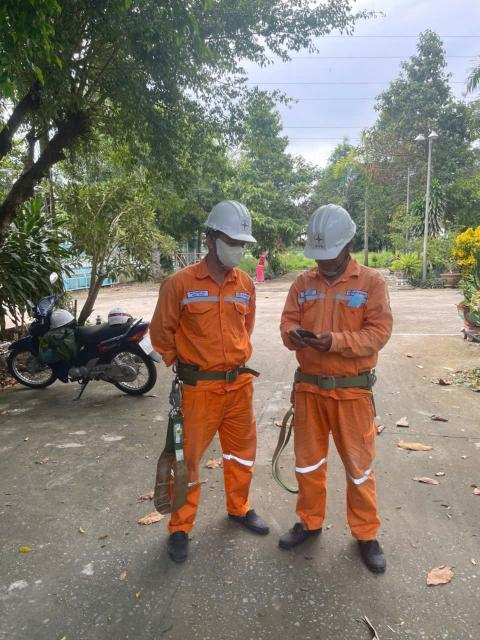harness: (286, 356, 375, 397), (167, 359, 268, 395)
helmet: (198, 189, 260, 248), (299, 206, 361, 262)
shoes: (343, 533, 394, 574), (273, 511, 319, 552), (234, 496, 272, 545), (157, 526, 200, 564)
